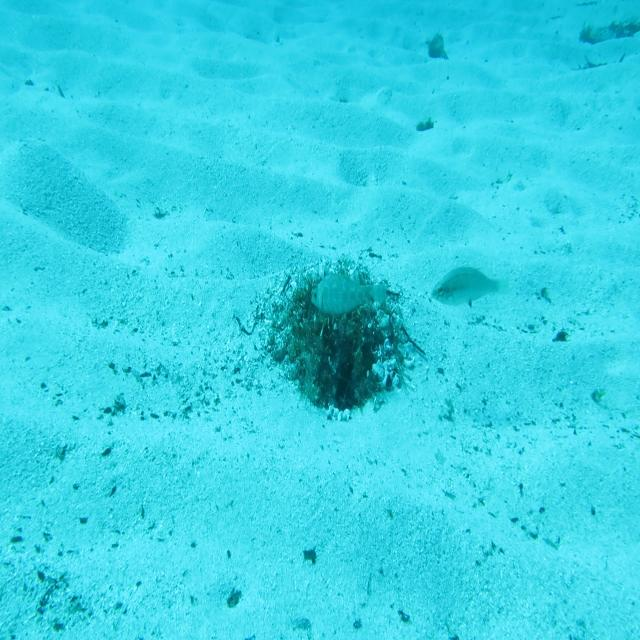INSF: (310, 268, 388, 318)
female: (429, 264, 510, 309)
nest: (254, 250, 419, 425)
vegetation: (576, 9, 640, 50), (427, 32, 446, 58), (414, 116, 434, 132), (302, 544, 316, 562)
